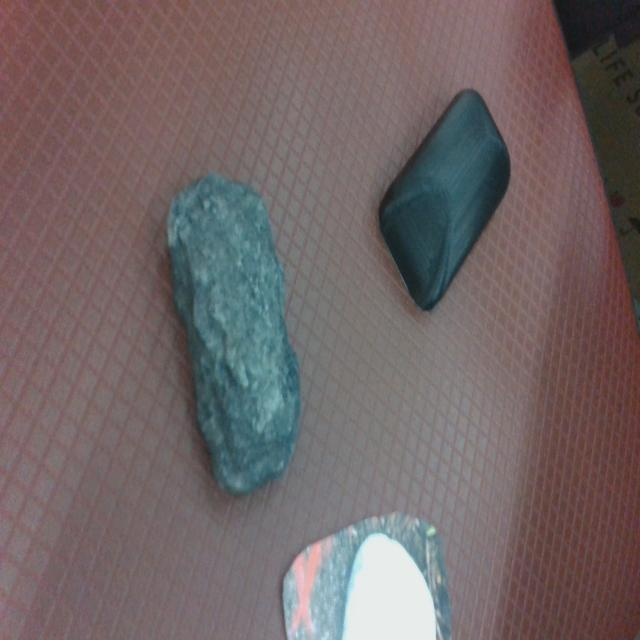stone: (170, 179, 302, 497)
